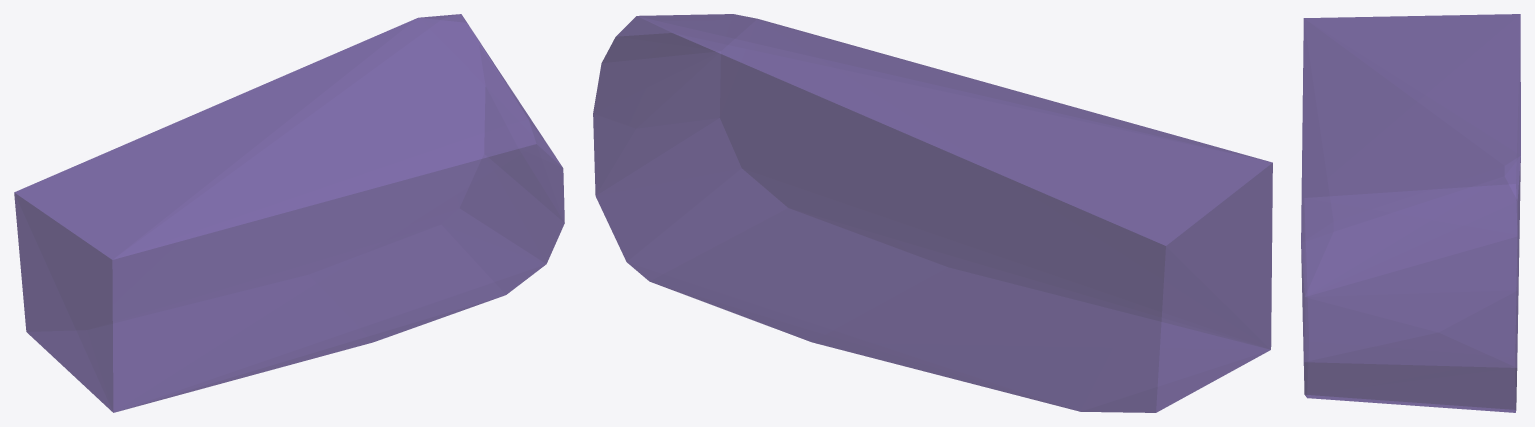
The picture shows the model from 3 angles, left to right: view 1: azimuth 30°, elevation 25°; view 2: azimuth 150°, elevation 25°; view 3: azimuth 270°, elevation 25°; orthographic projection. The views are drawn at different scales.
Parts seen in each view (by area): view 1: Shape_IndexedFaceSet.012_Shape_IndexedFaceSet.15625; view 2: Shape_IndexedFaceSet.012_Shape_IndexedFaceSet.15625; view 3: Shape_IndexedFaceSet.012_Shape_IndexedFaceSet.15625.
Part boxes in pixels (bbox=[...]): Shape_IndexedFaceSet.012_Shape_IndexedFaceSet.15625: bbox=[14, 14, 564, 412]; Shape_IndexedFaceSet.012_Shape_IndexedFaceSet.15625: bbox=[593, 14, 1272, 412]; Shape_IndexedFaceSet.012_Shape_IndexedFaceSet.15625: bbox=[1301, 14, 1520, 412].
Bounding box in the file's own units: 0.7041 × 0.3296 × 0.2442.
